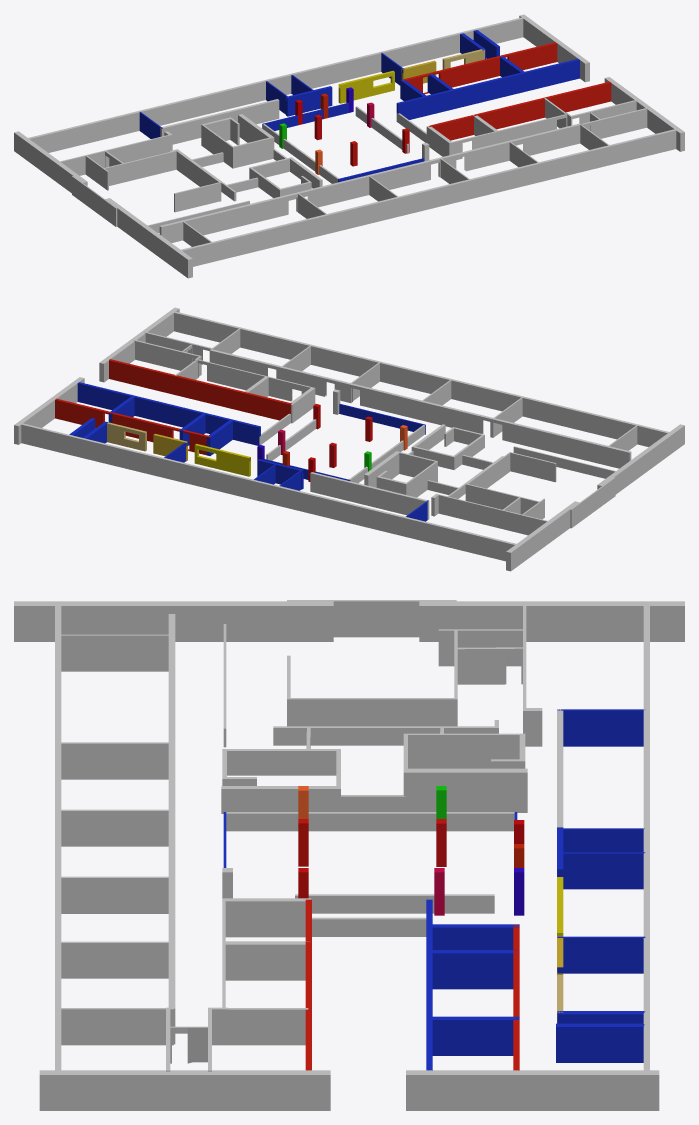
File: planta2andar.obj
3 views of the same model, one above another, from view 1: azimuth 30°, elevation 25°; view 2: azimuth 150°, elevation 25°; view 3: azimuth 270°, elevation 25° (orthographic). The views are drawn at different scales.
Parts seen in each view (by area): view 1: Cubo.005, Cubo.004, Cubo.035, Cubo.008, Cubo.007, Cubo.048, Cubo.006, Cubo.003, Cubo.036, Cubo.021, Cubo.049, Cubo.032 (+21 smaller); view 2: Cubo.004, Cubo.005, Cubo.035, Cubo.007, Cubo.008, Cubo.021, Cubo.048, Cubo.006, Cubo.032, Cubo.036, Cubo.049, Cubo.003 (+23 smaller); view 3: Cubo, Cubo.003, Cubo.001, Cubo.002, Cubo.048, Cubo.049, BARRA03, Cubo.019, Cubo.041, Cubo.044, Cubo.040, Cubo.042 (+31 smaller).
Part boxes in pixels (x1,y1,x2,y2): Cubo.005: (181, 129, 676, 266); Cubo.004: (28, 17, 523, 152); Cubo.035: (159, 123, 580, 242); Cubo.008: (396, 59, 579, 119); Cubo.007: (429, 81, 611, 140); Cubo.048: (201, 114, 274, 168); Cubo.006: (402, 42, 557, 94); Cubo.003: (105, 198, 192, 278); Cubo.036: (449, 98, 567, 159); Cubo.021: (160, 99, 279, 144); Cubo.049: (249, 157, 322, 200); Cubo.032: (60, 131, 172, 175); Cubo.004: (21, 423, 516, 561); Cubo.005: (174, 311, 669, 446); Cubo.035: (210, 349, 631, 468); Cubo.007: (109, 359, 291, 420); Cubo.008: (77, 382, 260, 445); Cubo.021: (310, 472, 429, 519); Cubo.048: (364, 451, 437, 497); Cubo.006: (55, 398, 210, 455); Cubo.032: (431, 493, 547, 535); Cubo.036: (175, 359, 314, 401); Cubo.049: (411, 424, 484, 469); Cubo.003: (597, 424, 684, 494); Cubo: (39, 1070, 330, 1110); Cubo.003: (14, 601, 333, 641); Cubo.001: (406, 1070, 659, 1110); Cubo.002: (419, 601, 684, 641); Cubo.048: (403, 733, 527, 812); Cubo.049: (221, 749, 340, 813); BARRA03: (226, 812, 514, 831); Cubo.019: (287, 698, 454, 726); Cubo.041: (57, 876, 168, 913); Cubo.044: (57, 634, 168, 671); Cubo.040: (59, 809, 168, 846); Cubo.042: (57, 941, 168, 978).
Size of the model in its own units: 3.53 by 0.1512 by 2.11.
